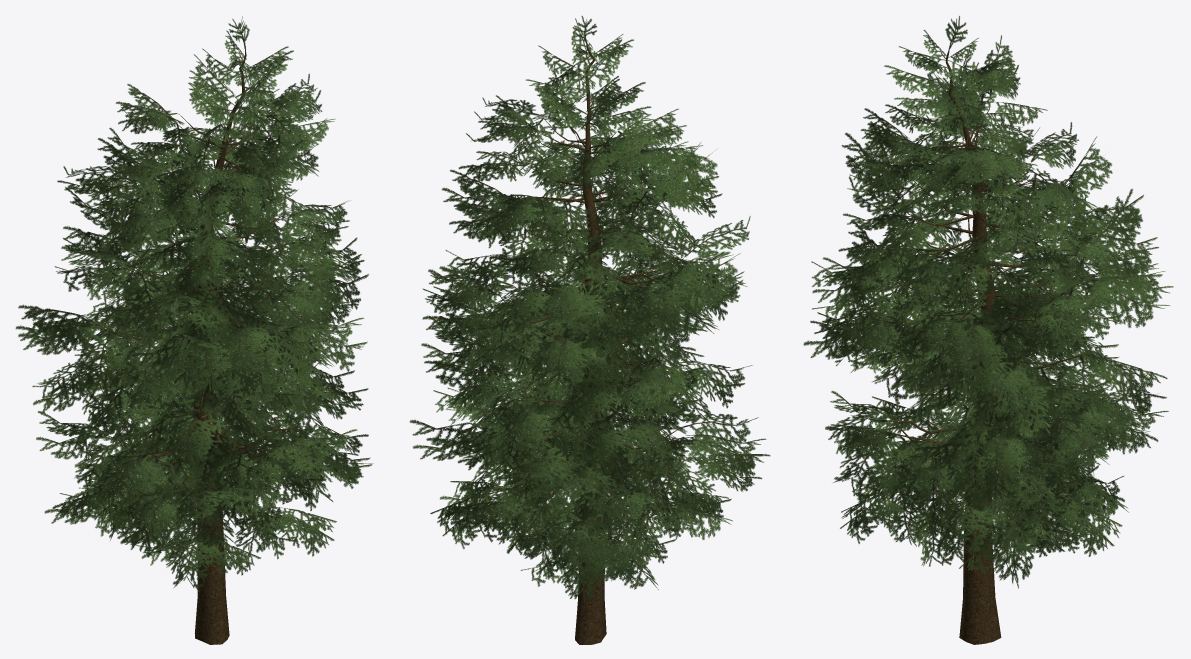
Rendered from fir2.glb.
3 views of the same model, side by side, from view 1: azimuth 30°, elevation 25°; view 2: azimuth 150°, elevation 25°; view 3: azimuth 270°, elevation 25° (orthographic). The views are drawn at different scales.
Parts seen in each view (by area): view 1: Christmas tree_2_LOD0_Brunches_Mat_0, Christmas tree_2_LOD0_Bark_Mat_0; view 2: Christmas tree_2_LOD0_Brunches_Mat_0, Christmas tree_2_LOD0_Bark_Mat_0; view 3: Christmas tree_2_LOD0_Brunches_Mat_0, Christmas tree_2_LOD0_Bark_Mat_0.
Part boxes in pixels (x1=…): Christmas tree_2_LOD0_Brunches_Mat_0: x1=15, y1=16, x2=373, y2=592; Christmas tree_2_LOD0_Bark_Mat_0: x1=103, y1=49, x2=295, y2=644; Christmas tree_2_LOD0_Brunches_Mat_0: x1=409, y1=16, x2=770, y2=607; Christmas tree_2_LOD0_Bark_Mat_0: x1=497, y1=43, x2=687, y2=644; Christmas tree_2_LOD0_Brunches_Mat_0: x1=803, y1=16, x2=1173, y2=588; Christmas tree_2_LOD0_Bark_Mat_0: x1=886, y1=49, x2=1088, y2=644.
Bounding box in the file's own units: 4.95 × 9.23 × 4.98.
2 materials, 2 textured.
